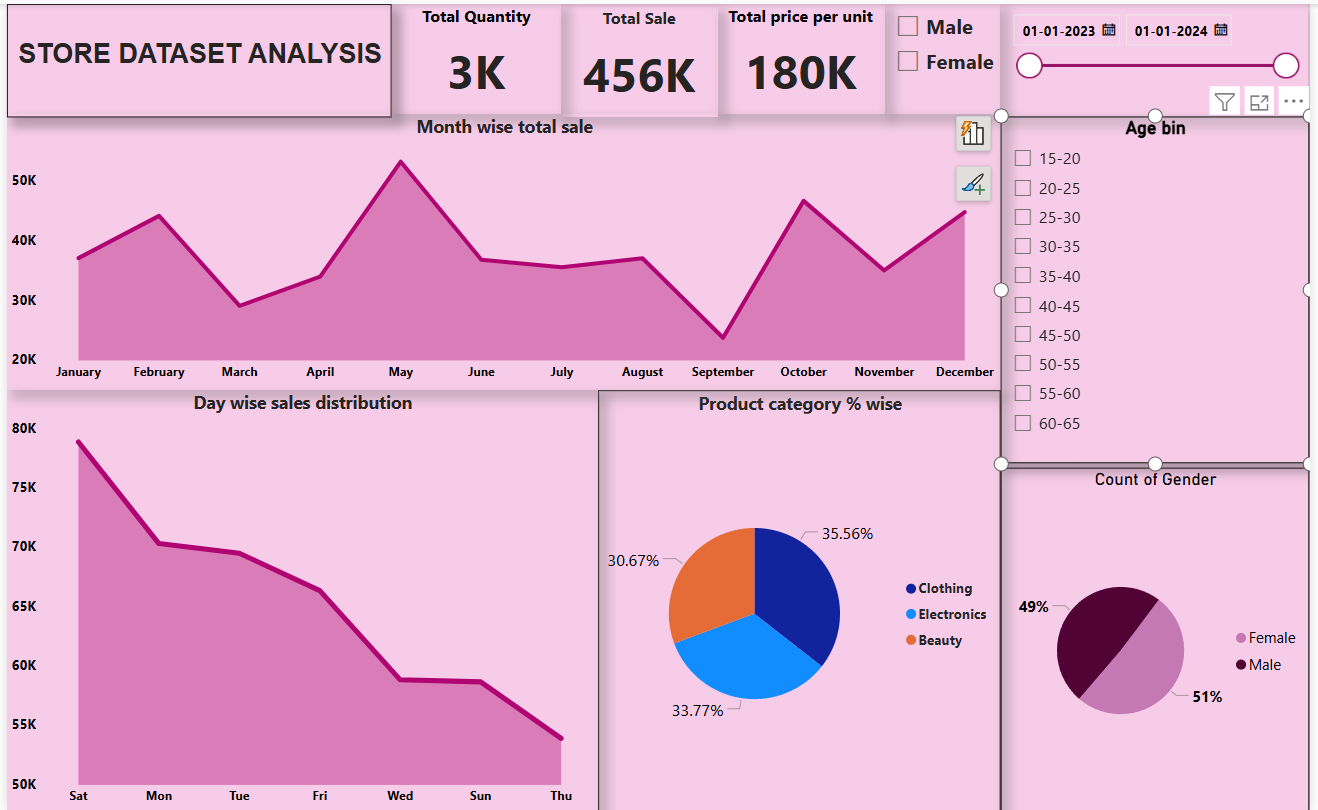

The dashboard page shown, as its layout file describes it:
{"tool":"powerbi","page":{"name":"Page 1","canvas":[1287,799],"ordinal":0},"visuals":[{"type":"card","title":"Total Quantity","fields":{"Values":["Sum(aaa.Quantity)"]},"box":[380.1,0,166.8,108.8],"z":0},{"type":"card","title":"Total Sale","fields":{"Values":["Sum(aaa.Total Amount)"]},"box":[546.9,2.9,155.2,108.8],"z":1000},{"type":"card","title":"Total price per unit","fields":{"Values":["Sum(aaa.Price per Unit)"]},"box":[702.1,0,165.4,108.8],"z":2000},{"type":"slicer","fields":{"Values":["aaa.Gender"]},"box":[867.5,0,114.6,108.8],"z":3000},{"type":"pieChart","title":"Product category % wise","fields":{"Category":["aaa.Product Category"],"Y":["Sum(aaa.Quantity)"]},"box":[584.6,381.5,397.5,417.8],"z":4000},{"type":"lineChart","title":"Month wise total sale","fields":{"Category":["aaa.Date.Variation.Date Hierarchy.Month"],"Y":["Sum(aaa.Total Amount)"]},"box":[0,108.8,983.5,272.7],"z":5000},{"type":"lineChart","title":"Day wise sales distribution","fields":{"Category":["aaa.weekday"],"Y":["Sum(aaa.Total sales)"]},"box":[0,381.5,584.6,419.2],"z":6000},{"type":"slicer","fields":{"Values":["aaa.Date"]},"box":[982.1,0,303.2,111.7],"z":7000},{"type":"pieChart","title":"Count of Gender","fields":{"Category":["aaa.Gender"],"Y":["CountNonNull(aaa.Gender)"]},"box":[982.1,458.4,304.6,340.9],"z":8000},{"type":"slicer","title":"Age bin","fields":{"Values":["aaa.Age Bin"]},"box":[982.1,111.7,304.6,342.4],"z":9000},{"type":"textbox","box":[0,0,380.1,111.7],"z":10000}]}

Visuals, with their boxes in screenshot pixels (x1, y1, x2, y2), scaled from the page's 1287x799 canvas onto the 1318x810 screenshot:
"Total Quantity" card: (x1=389, y1=0, x2=560, y2=110)
"Total Sale" card: (x1=560, y1=3, x2=719, y2=113)
"Total price per unit" card: (x1=719, y1=0, x2=888, y2=110)
slicer - aaa.Gender: (x1=888, y1=0, x2=1006, y2=110)
"Product category % wise" pieChart: (x1=599, y1=387, x2=1006, y2=809)
"Month wise total sale" lineChart: (x1=0, y1=110, x2=1007, y2=387)
"Day wise sales distribution" lineChart: (x1=0, y1=387, x2=599, y2=809)
slicer - aaa.Date: (x1=1006, y1=0, x2=1316, y2=113)
"Count of Gender" pieChart: (x1=1006, y1=465, x2=1317, y2=809)
"Age bin" slicer: (x1=1006, y1=113, x2=1317, y2=460)
textbox: (x1=0, y1=0, x2=389, y2=113)
